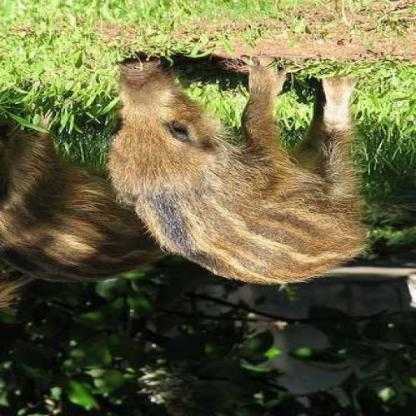boar: (125, 18, 384, 306), (0, 98, 145, 335)
